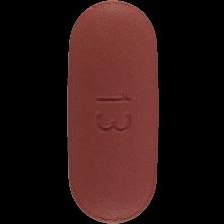61919-987: (0, 0, 224, 224)
